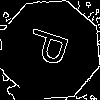P: (25, 25, 79, 71)
